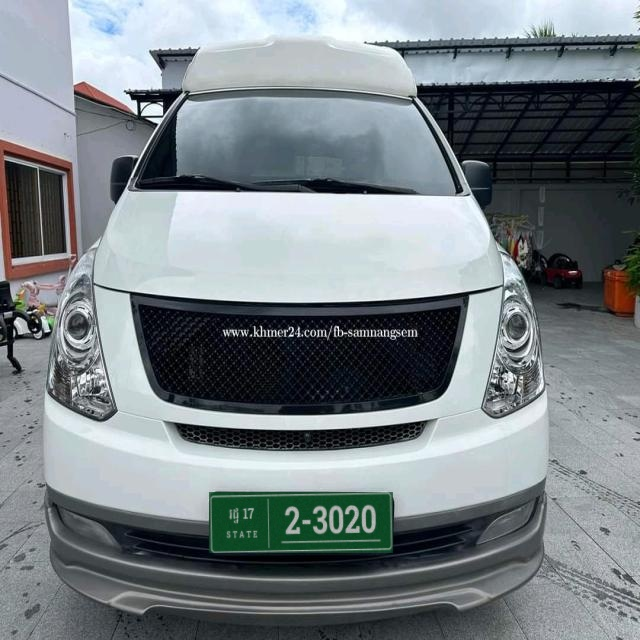Plate Number: (209, 492, 394, 554)
